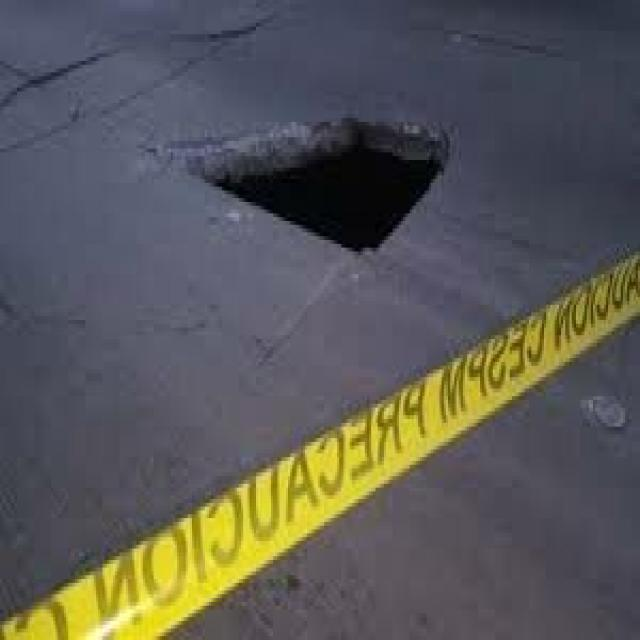Pothole: (158, 15, 546, 377)
